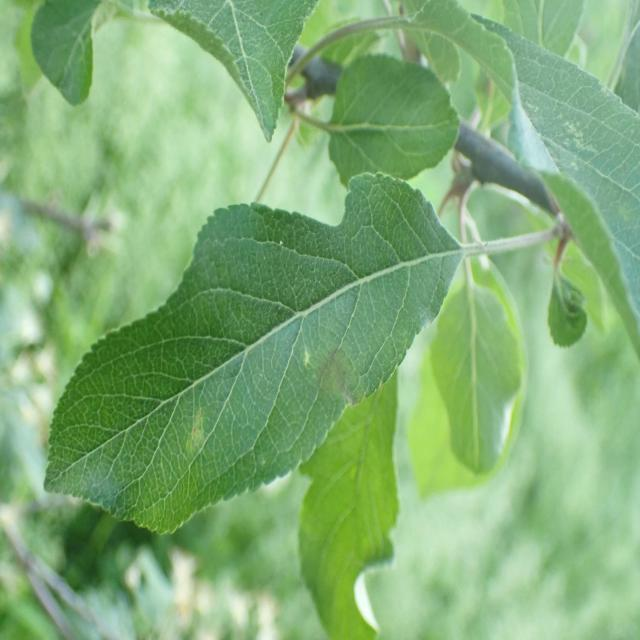scab: (164, 318, 384, 473)
